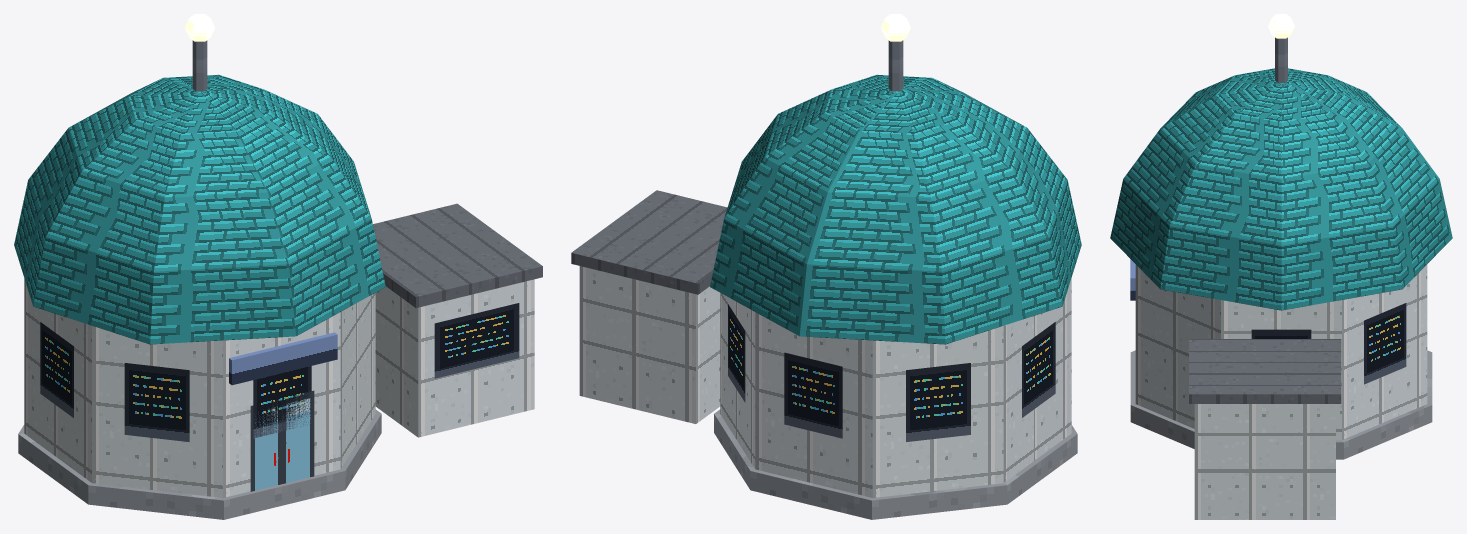
File: ai_lab.glb
The picture shows the model from 3 angles, left to right: view 1: azimuth 30°, elevation 25°; view 2: azimuth 150°, elevation 25°; view 3: azimuth 270°, elevation 25°; orthographic projection. The views are drawn at different scales.
Parts seen in each view (by area): view 1: ai_lab; view 2: ai_lab; view 3: ai_lab.
Boxes of the visible parts, x1=… form: ai_lab: x1=14, y1=14, x2=542, y2=519; ai_lab: x1=571, y1=14, x2=1081, y2=519; ai_lab: x1=1110, y1=14, x2=1452, y2=519.
Bounding box in the file's own units: 8.65 × 7.75 × 6.3.
9 materials, 9 textured.
